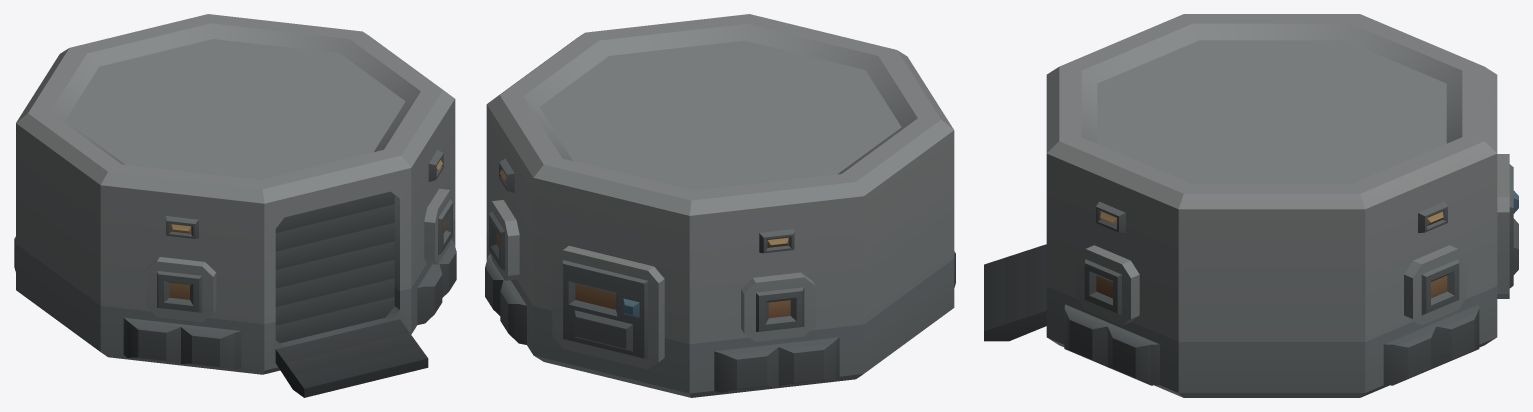
File: workshop-CXZ_tQ4k.glb
3 renders of one model, left to right at view 1: azimuth 30°, elevation 25°; view 2: azimuth 150°, elevation 25°; view 3: azimuth 270°, elevation 25°, orthographic. The views are drawn at different scales.
Parts seen in each view (by area): view 1: Cylinder.2718, basemodule_garage_door; view 2: Cylinder.2718; view 3: Cylinder.2718.
Boxes of the visible parts, bbox=[...] form: Cylinder.2718: bbox=[14, 14, 456, 397]; basemodule_garage_door: bbox=[275, 191, 394, 343]; Cylinder.2718: bbox=[485, 14, 955, 397]; Cylinder.2718: bbox=[984, 14, 1518, 397].
Bounding box in the file's own units: 2 × 0.9999 × 2.37.
1 material, 1 textured.
